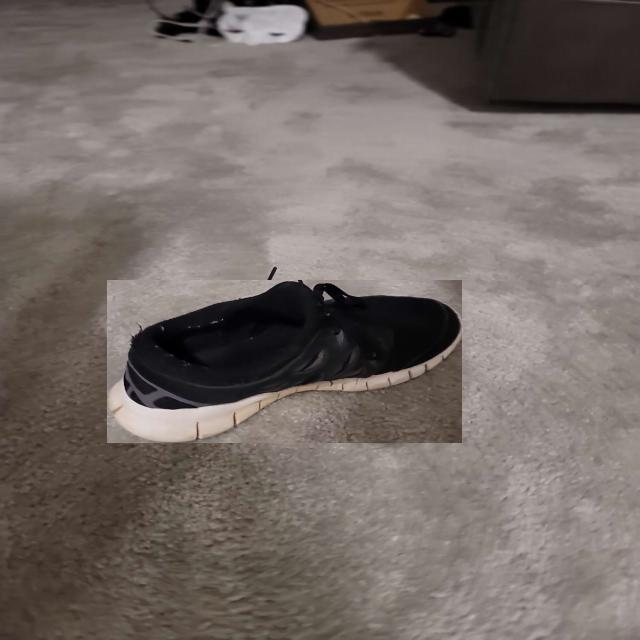shoe: (107, 280, 462, 443)
